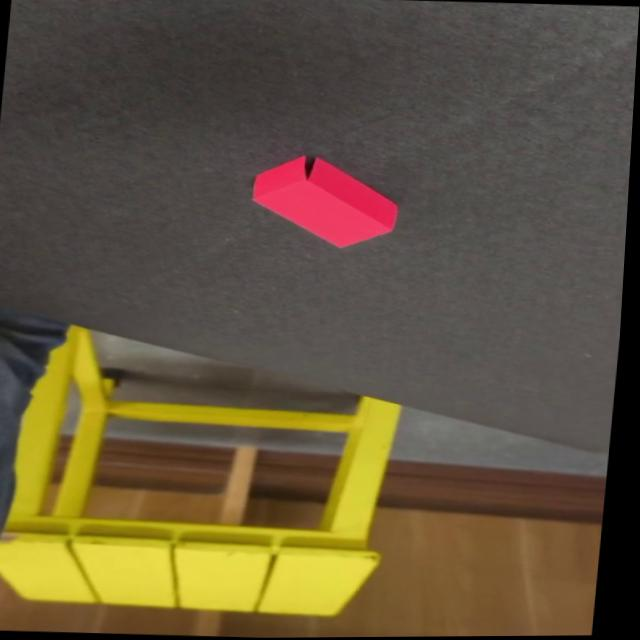red block: (244, 153, 403, 252)
